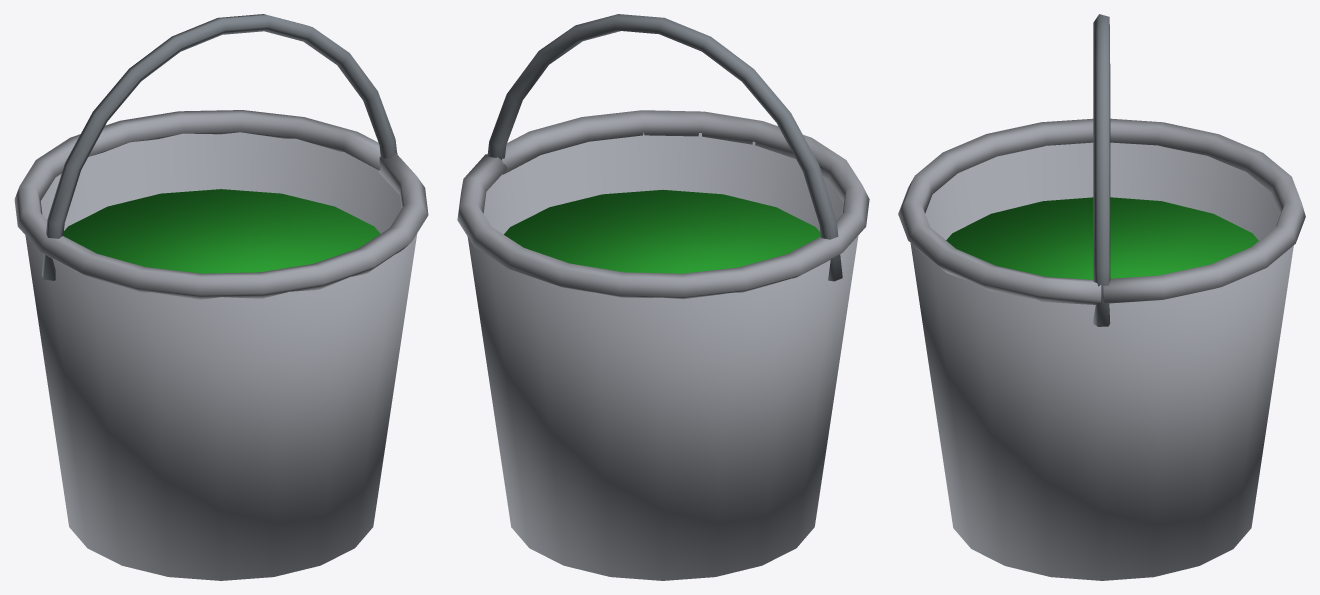
File: green_paint.glb
3 renders of one model, left to right at view 1: azimuth 30°, elevation 25°; view 2: azimuth 150°, elevation 25°; view 3: azimuth 270°, elevation 25°, orthographic.
Visible parts, largest first — view 1: green_paint_v0; view 2: green_paint_v0; view 3: green_paint_v0.
Part boxes in pixels (<box>): green_paint_v0: <box>14,14,428,580</box>; green_paint_v0: <box>457,14,869,580</box>; green_paint_v0: <box>898,14,1305,580</box>.
Size of the model in its own units: 0.2696 by 0.3556 by 0.2693.
